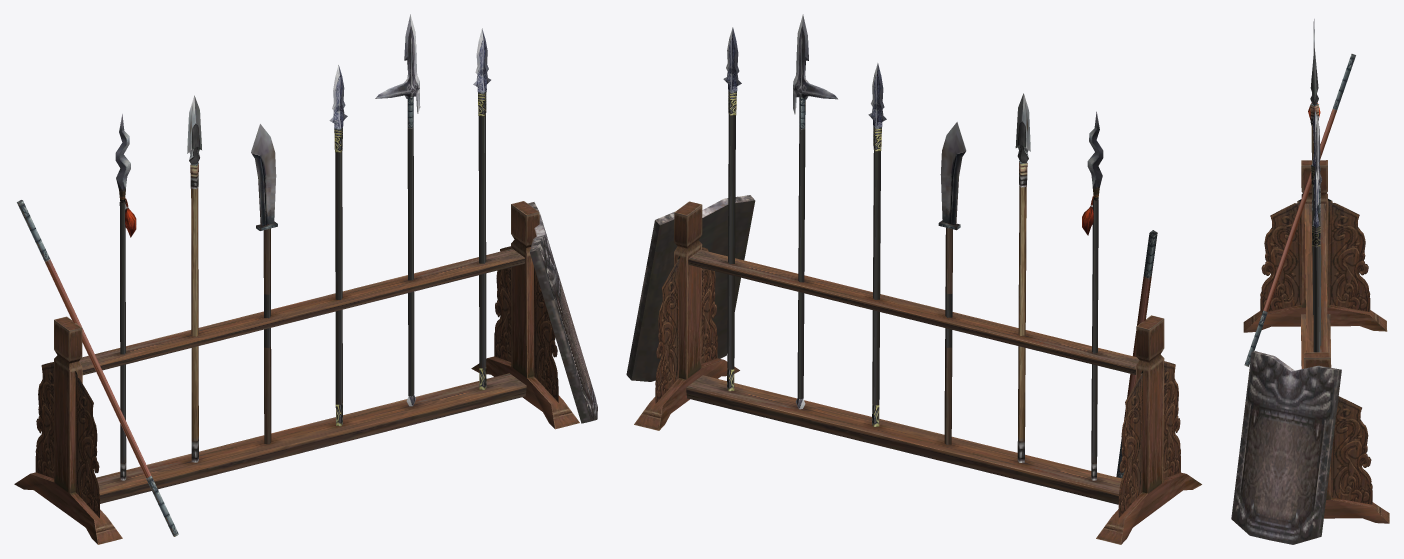
Rendered from bingqijia01.FBX.
3 views of the same model, side by side, from view 1: azimuth 30°, elevation 25°; view 2: azimuth 150°, elevation 25°; view 3: azimuth 270°, elevation 25° (orthographic). The views are drawn at different scales.
Parts seen in each view (by area): view 1: bingqijia01; view 2: bingqijia01; view 3: bingqijia01.
Part boxes in pixels (x1,y1,x2,y2): bingqijia01: [14, 14, 597, 544]; bingqijia01: [626, 14, 1201, 544]; bingqijia01: [1231, 19, 1389, 544].
Bounding box in the file's own units: 385 × 286 × 111.
